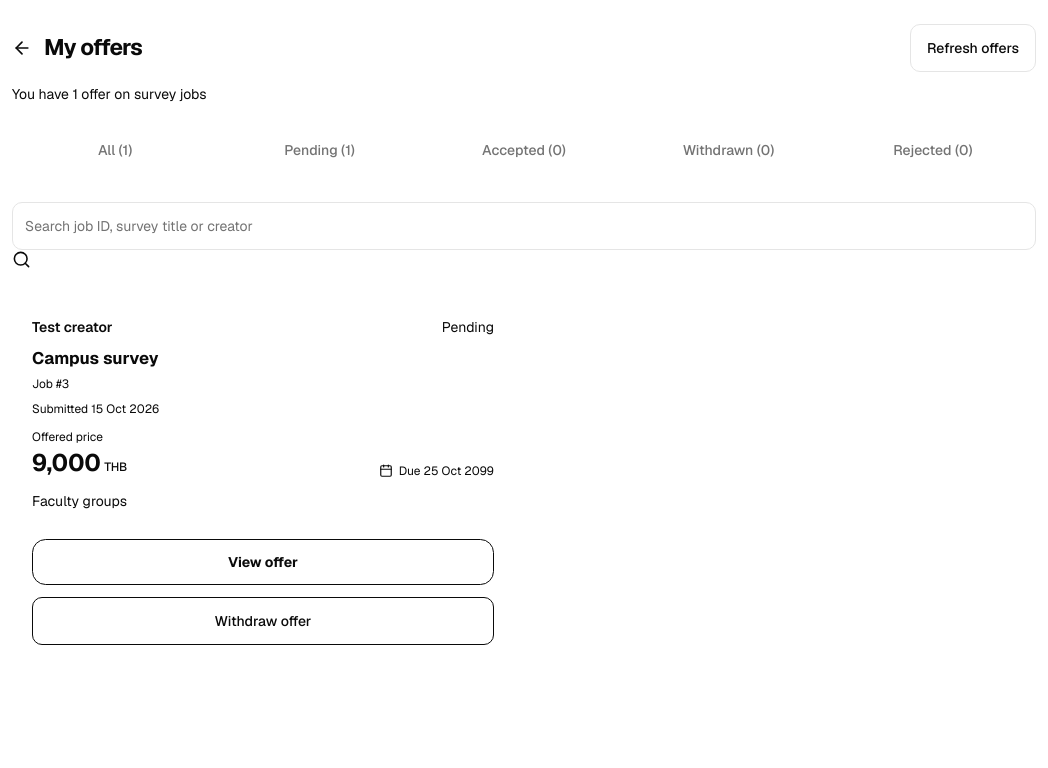
Test: searches offers using the saved job title and creator
Step 1. Type "no such campaign" into the search field named "Search offers by job or creator" → (524, 226), box [12, 202, 1036, 250]
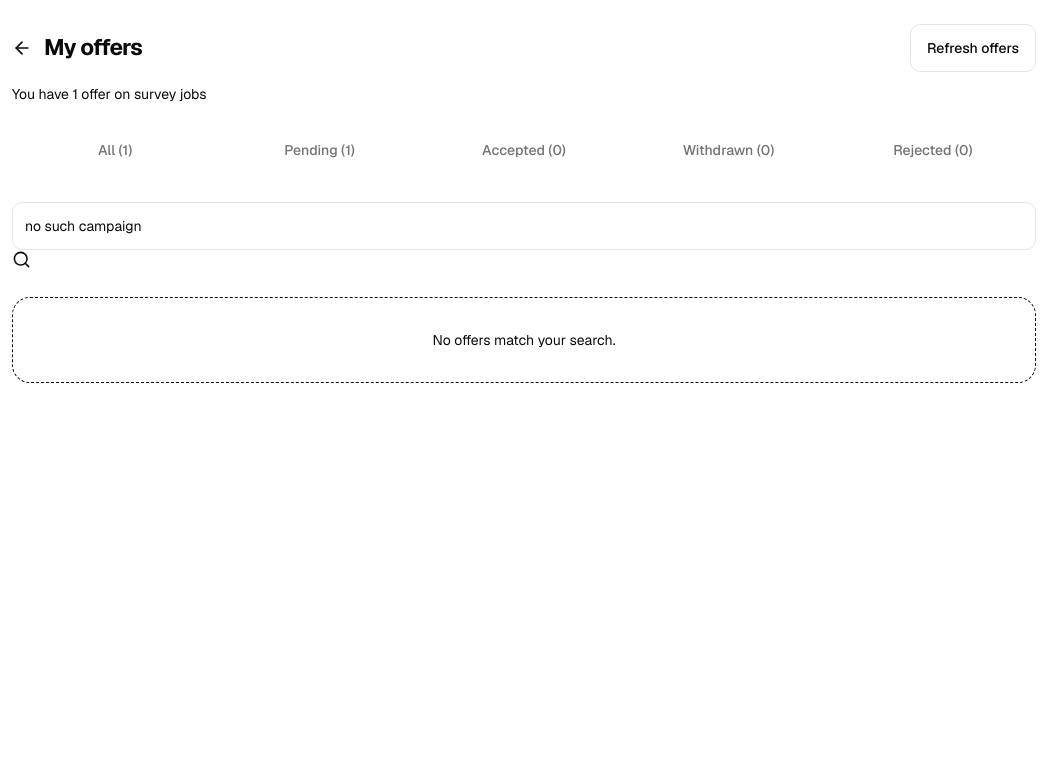
Now the text "No offers match your search." is shown, box [432, 331, 615, 349]
